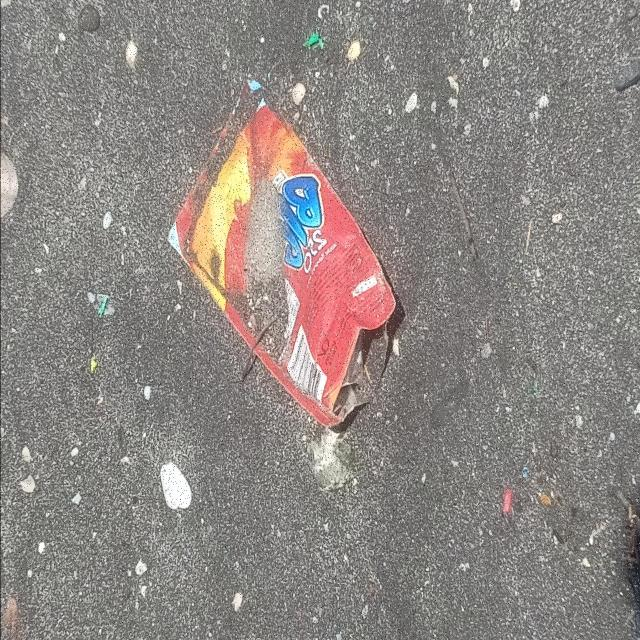plastic_waste: (166, 78, 398, 432)
